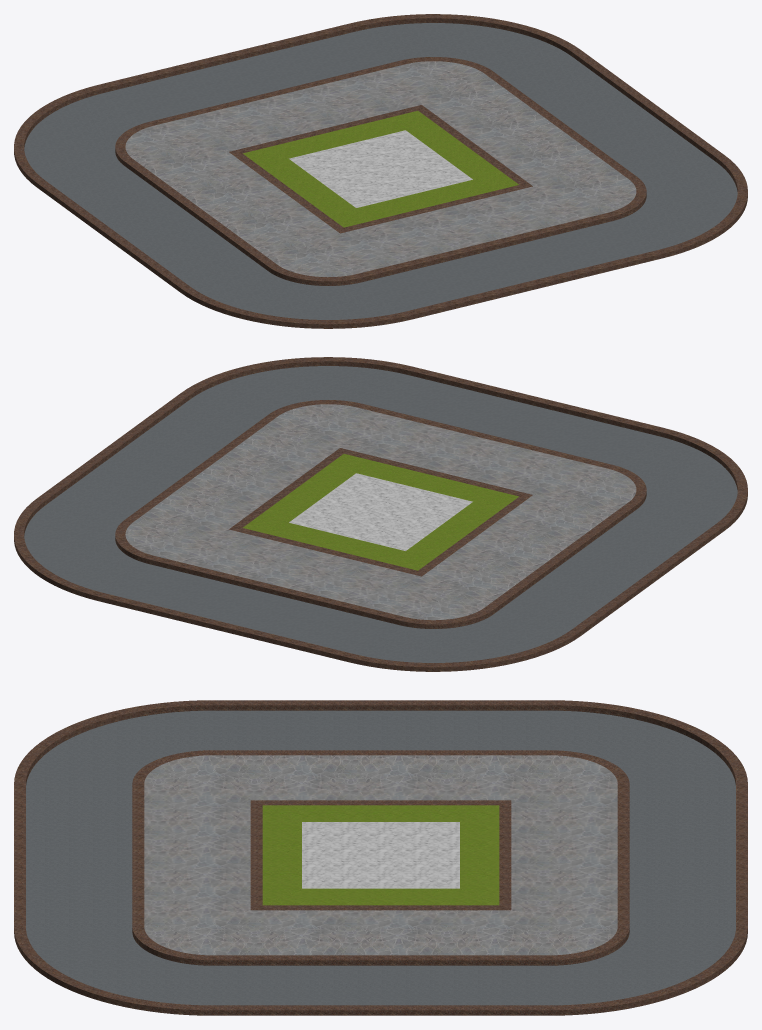
3 renders of one model, top to bottom at view 1: azimuth 30°, elevation 25°; view 2: azimuth 150°, elevation 25°; view 3: azimuth 270°, elevation 25°, orthographic. The views are drawn at different scales.
Visible parts, largest first — view 1: 1) Model - 1.dwg#2; view 2: 1) Model - 1.dwg#2; view 3: 1) Model - 1.dwg#2.
Boxes of the visible parts, <box> form: 1) Model - 1.dwg#2: <box>14,14,747,328</box>; 1) Model - 1.dwg#2: <box>14,357,747,671</box>; 1) Model - 1.dwg#2: <box>14,700,747,1015</box>.
Size of the model in its own units: 18.6 by 0.15 by 18.6.
300 materials, 300 textured.
